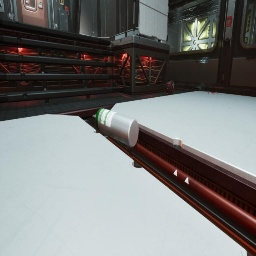0: (92, 108, 139, 148)
EmergencyPhone ,: (59, 0, 64, 6)
FireAlarm ,: (226, 16, 232, 27), (65, 6, 69, 16)
NitrogenTank ,: (164, 81, 175, 95)
SafetySwitchPanel ,: (0, 0, 4, 13)
